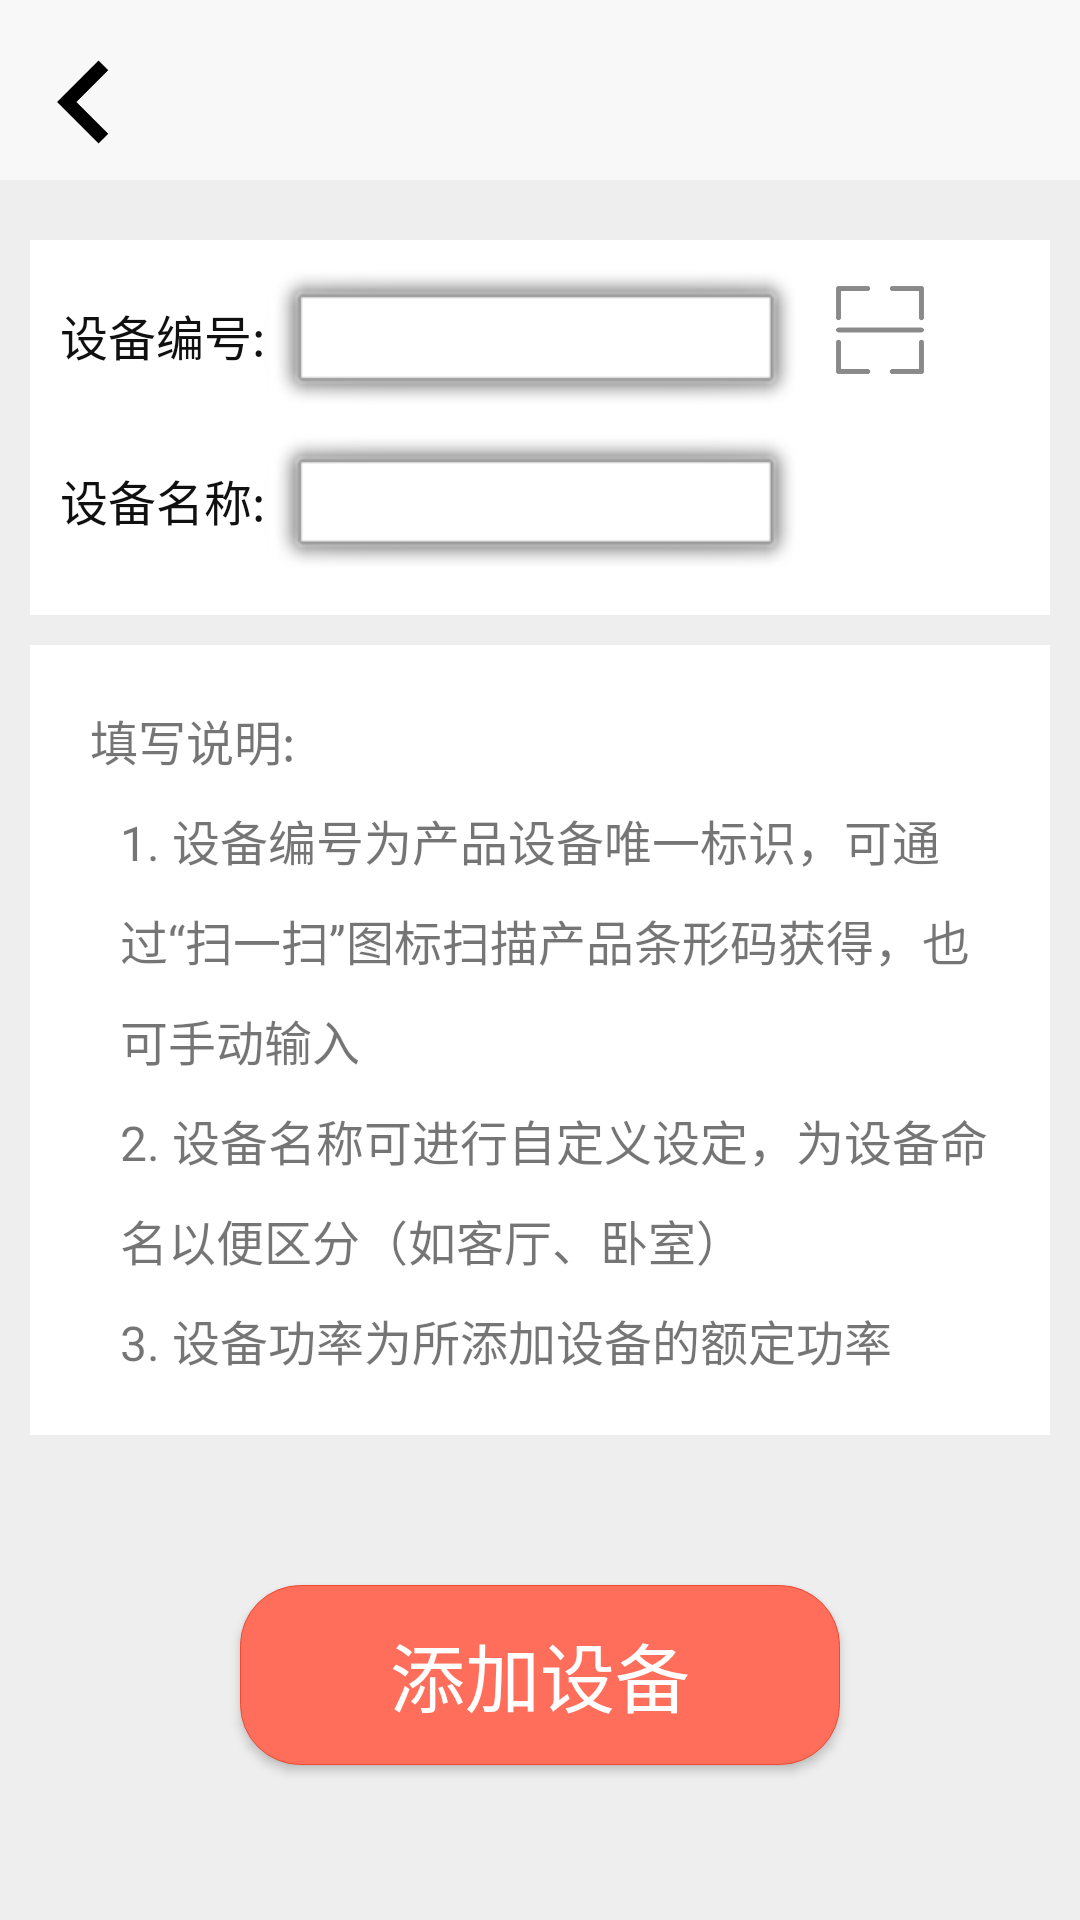

Screen size 1080w x 1920h. Icon name, then its center in pixels as (x,y):
back: (82,102)
scanner: (880,330)
